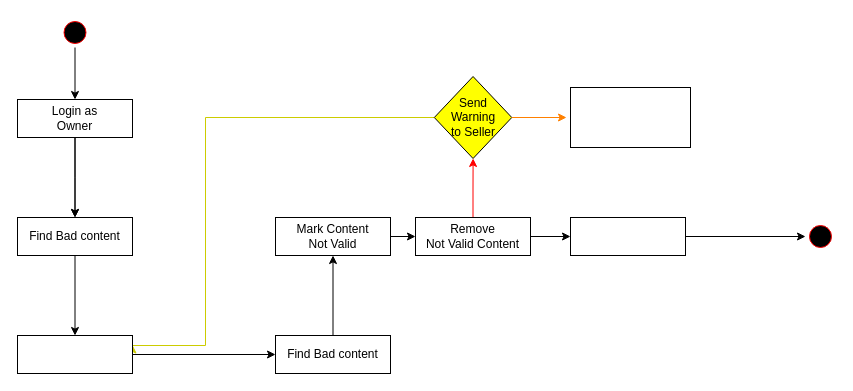
This 853x391 diagram has some shape labels left out. The box of each missing label's shape, as (x1, y1, x2, y2) in pixels:
Increase Warning Level by 1: (570, 86, 690, 148)
Mark Content ID as not valid: (570, 216, 686, 256)
View Seller of Content: (16, 334, 132, 374)
